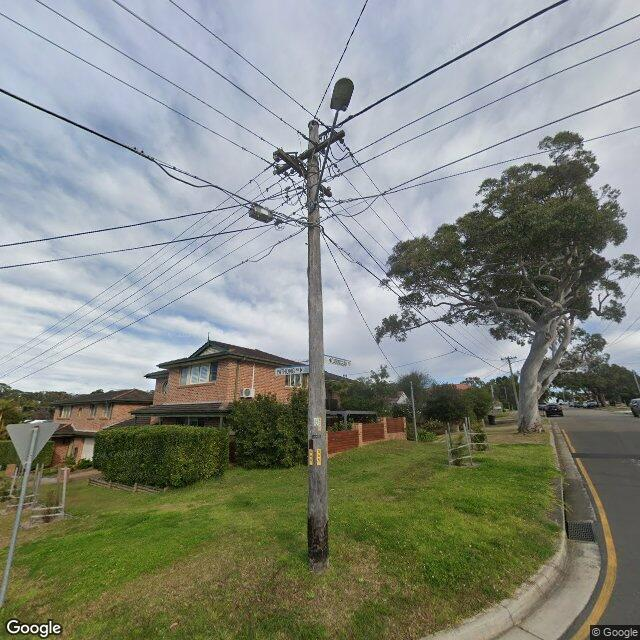crossarm: (273, 129, 345, 176), (276, 149, 333, 197), (500, 356, 517, 360)
steel-pole: (0, 425, 38, 608), (410, 381, 417, 441)
streetlight: (313, 77, 355, 203)
timber-pole: (306, 119, 329, 569), (508, 356, 518, 409)
